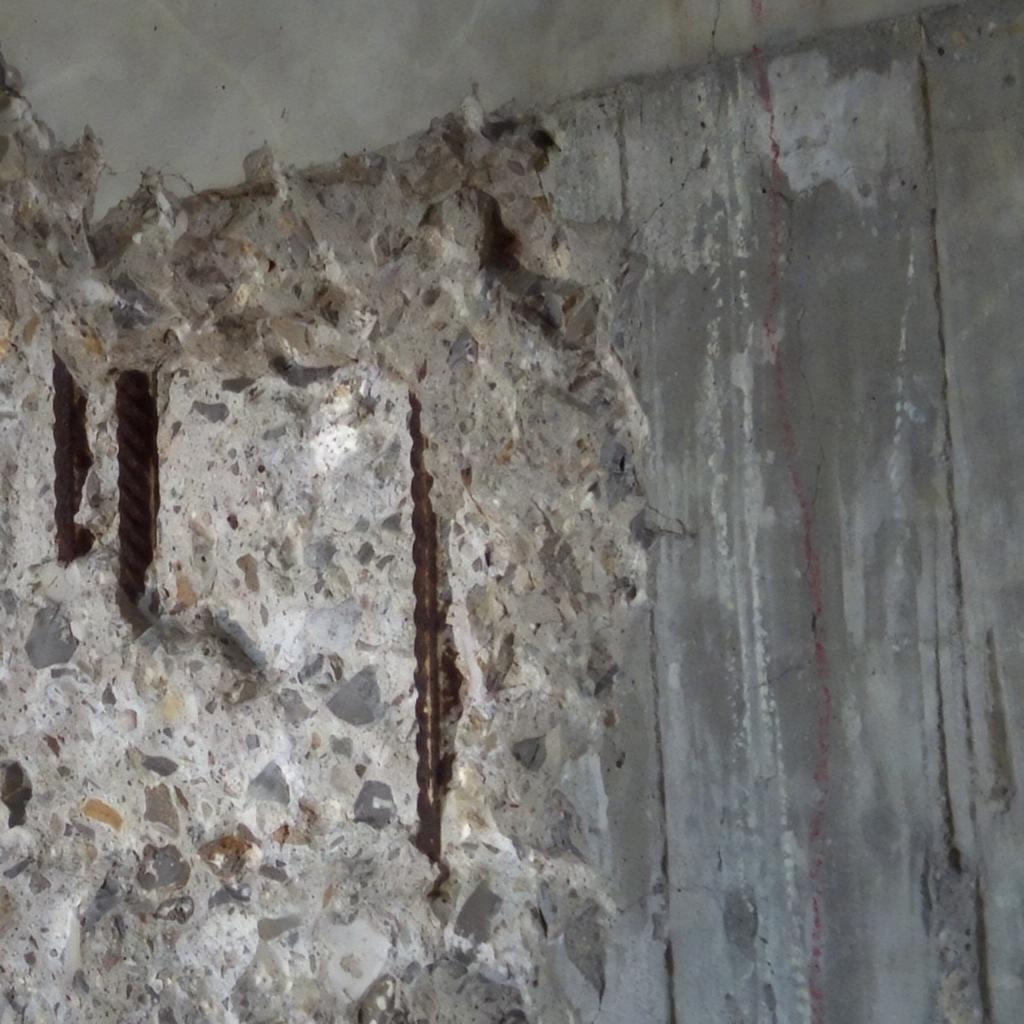exposed_rebar: (408, 392, 462, 862), (116, 370, 158, 603), (52, 354, 94, 563)
spalling: (0, 72, 646, 1024)
